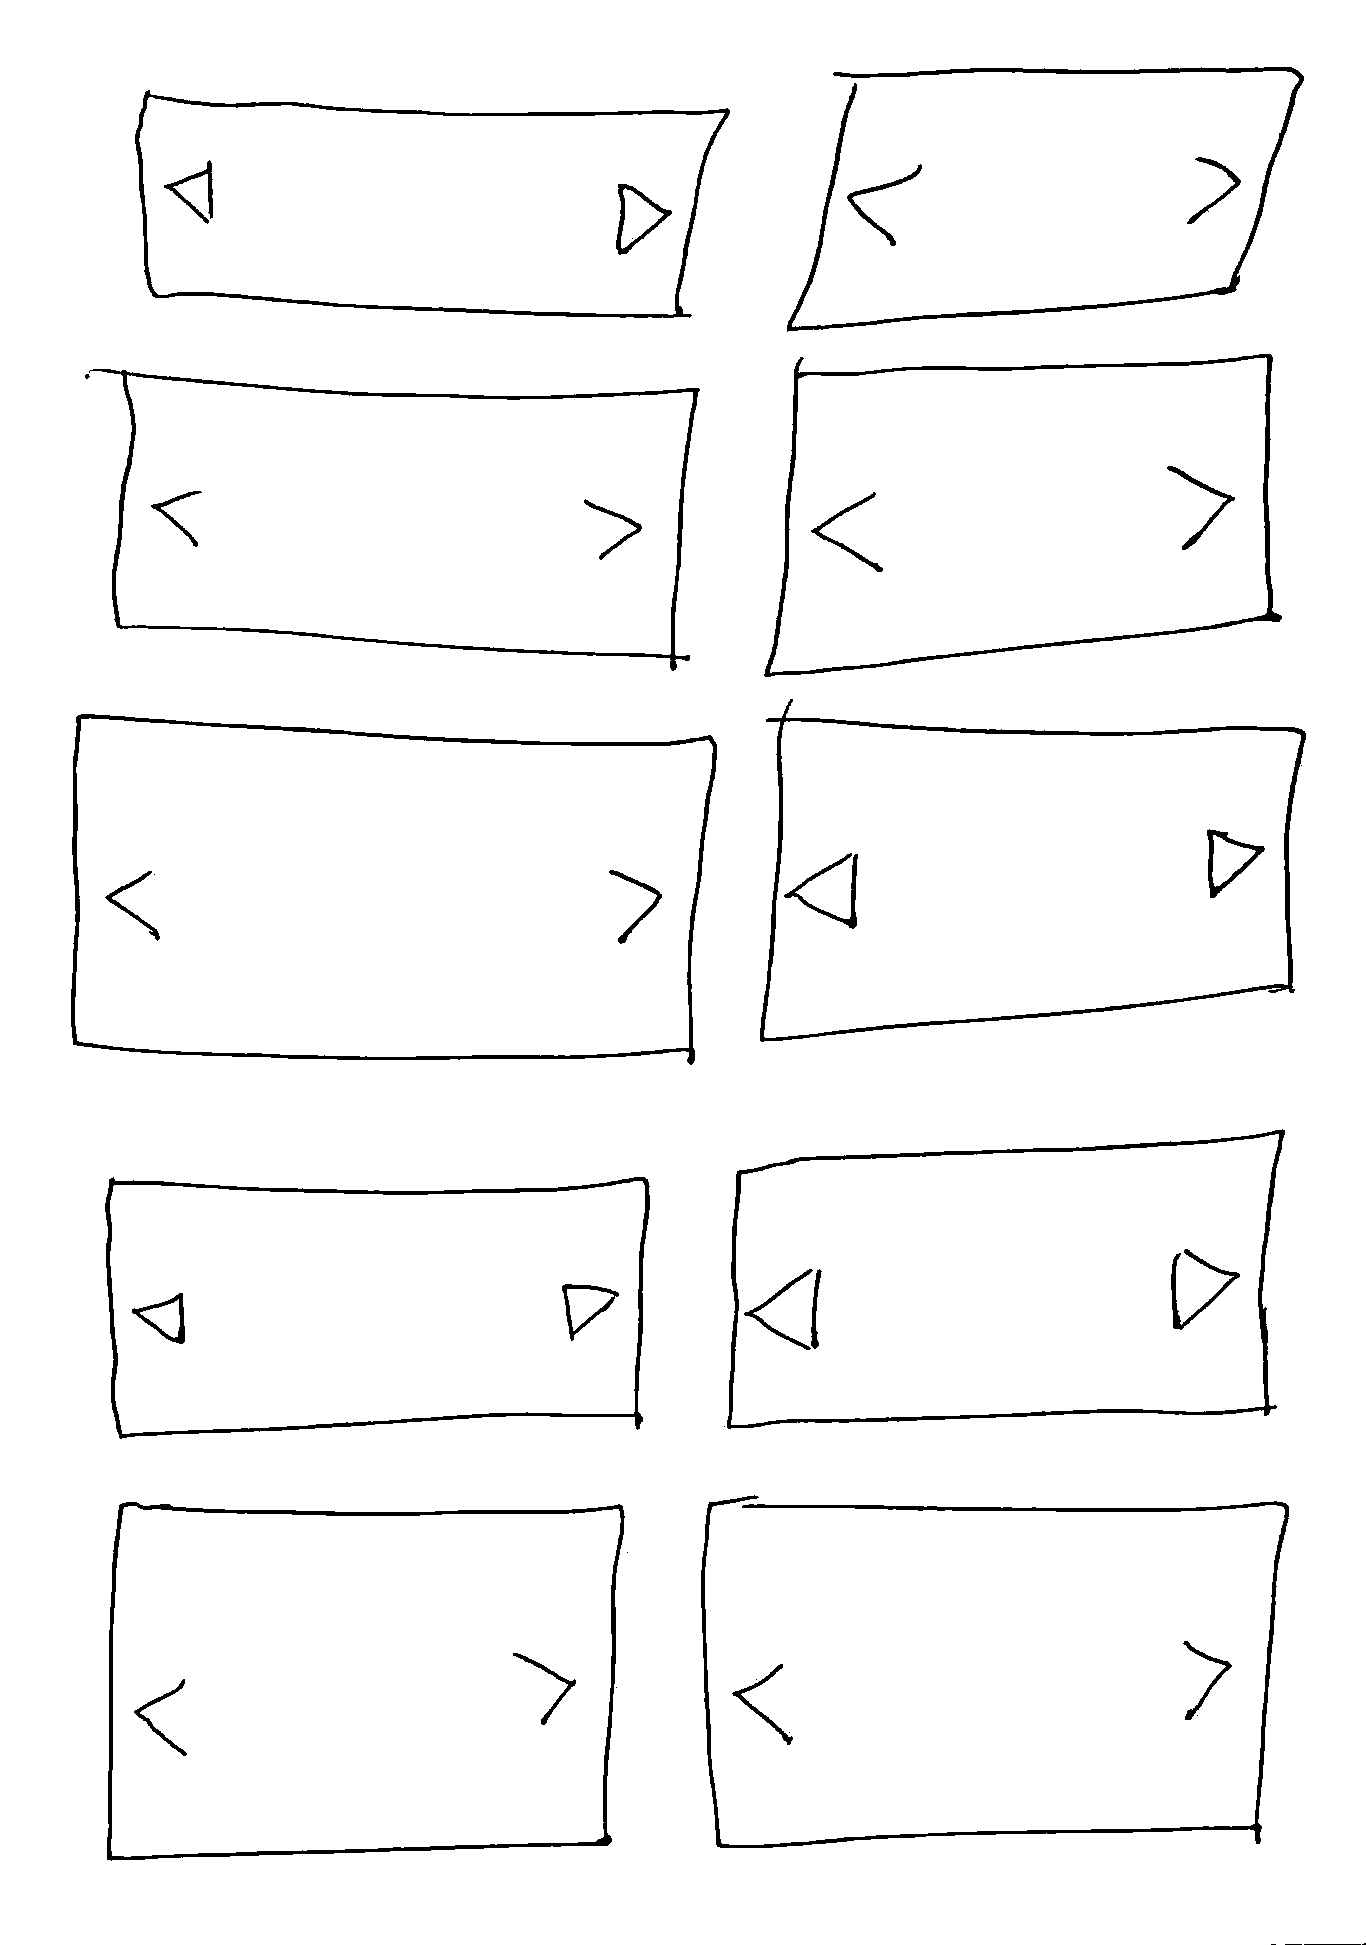Carousel: (71, 714, 717, 1064), (701, 1496, 1289, 1847), (760, 698, 1305, 1042), (84, 368, 699, 670), (106, 1502, 624, 1859), (764, 355, 1282, 677), (727, 1131, 1285, 1429), (105, 1176, 650, 1440), (786, 67, 1305, 333), (135, 90, 730, 318)
